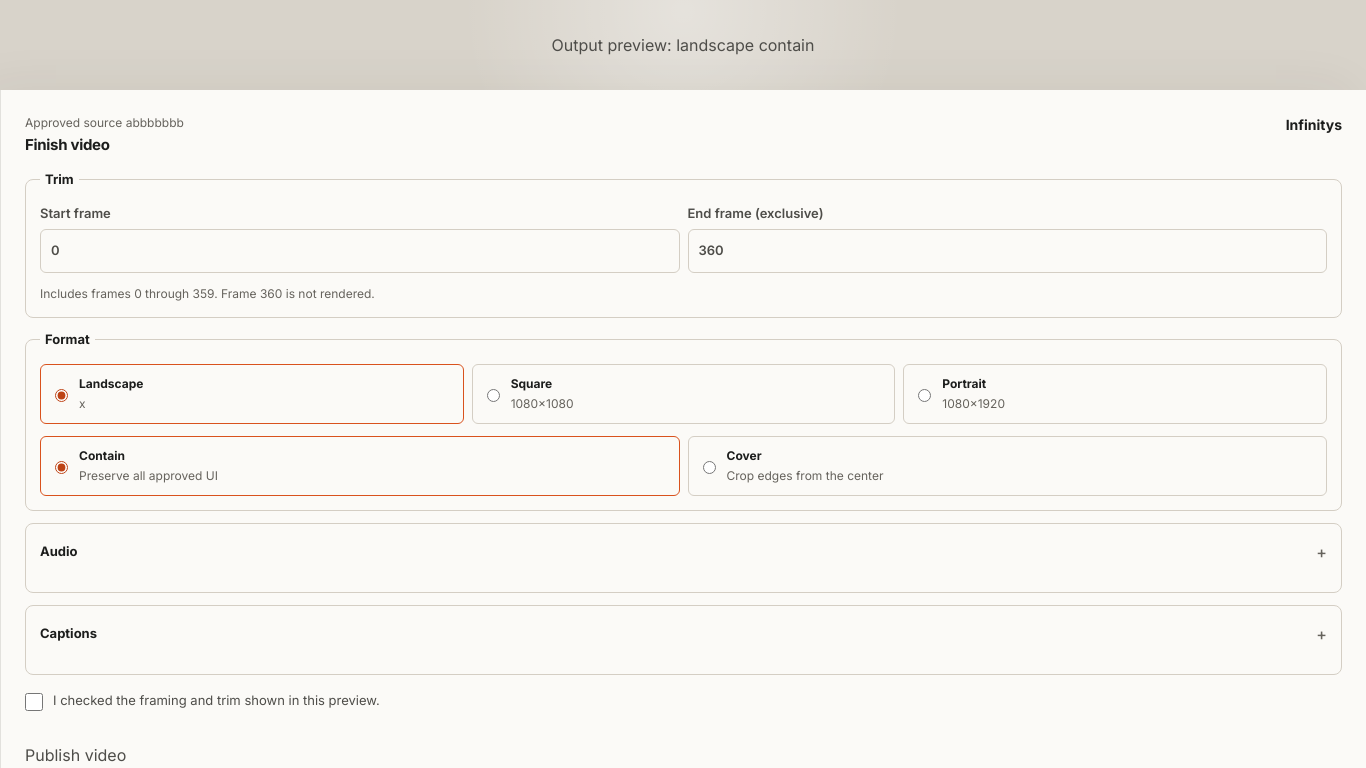
it: FinishVideoPanel › keeps selected audio playback beside its finishing controls
Click the heading "Audio" at [59, 551], box top-left (40, 543), bottom-right (78, 559)
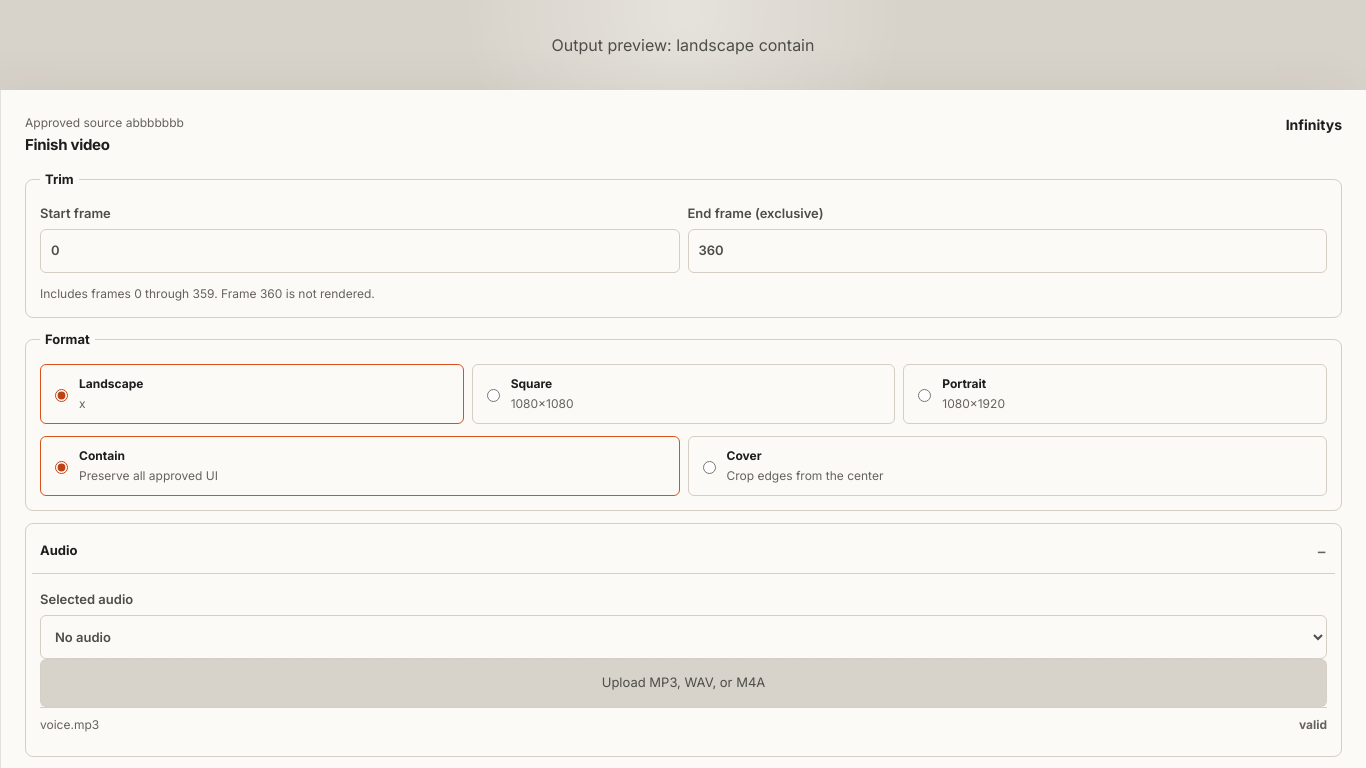
Select "voice.mp3" in the dropdown labelled "Selected audio" at [684, 637], box top-left (40, 615), bottom-right (1327, 659)
(page scrolled)
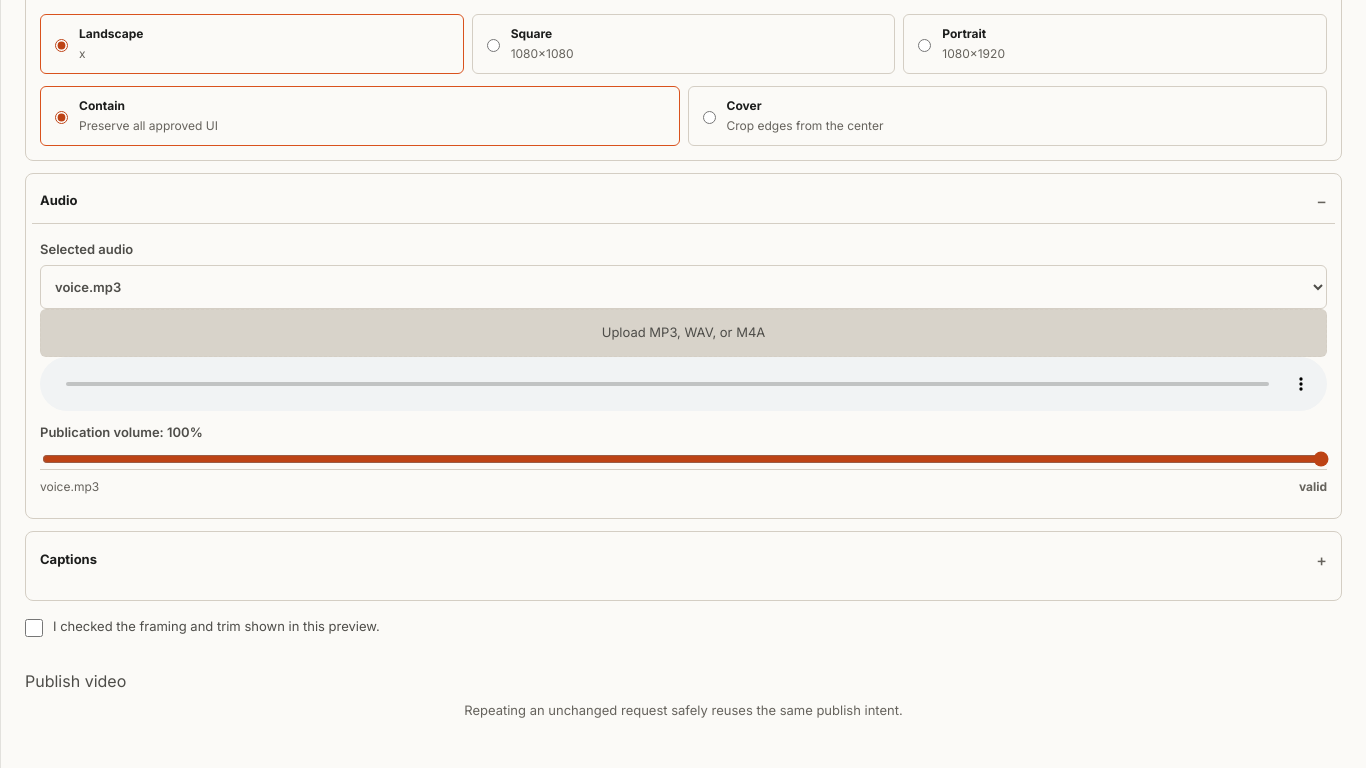
Check: the text "Audio preview is not supported by this browser." is shown, box top-left (40, 357), bottom-right (1327, 411)
Check: the text "Publication volume: 100%" is shown, box top-left (40, 423), bottom-right (1327, 469)
